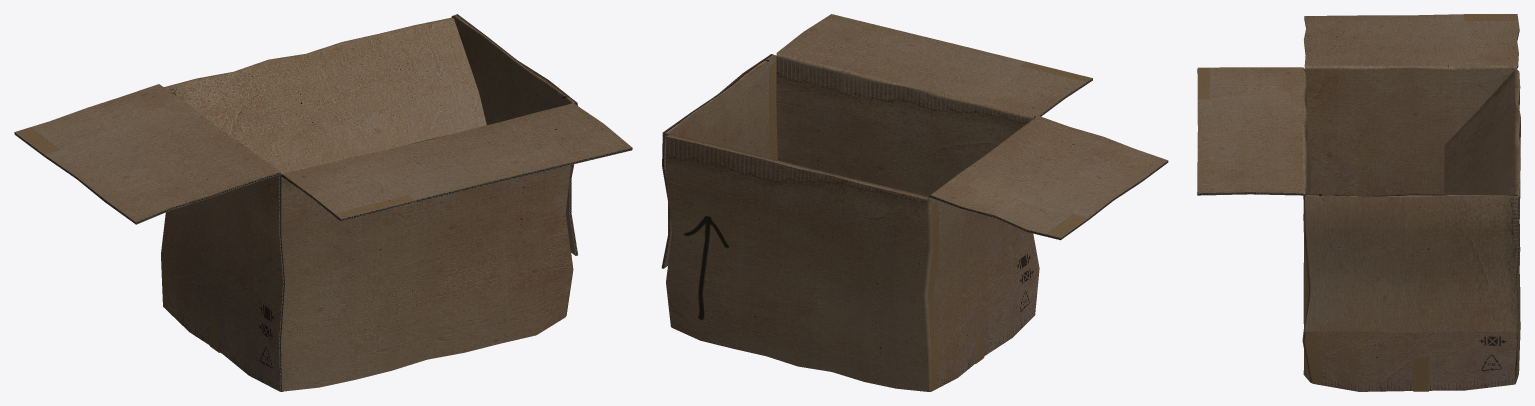
File: SM_CardboardC.FBX
3 renders of one model, left to right at view 1: azimuth 30°, elevation 25°; view 2: azimuth 150°, elevation 25°; view 3: azimuth 270°, elevation 25°, orthographic. The views are drawn at different scales.
Visible parts, largest first — view 1: SM_CardboardC_LOD0; view 2: SM_CardboardC_LOD0; view 3: SM_CardboardC_LOD0.
Part boxes in pixels (box(x1,y1,x2,y2)): SM_CardboardC_LOD0: box(14, 14, 632, 391); SM_CardboardC_LOD0: box(661, 14, 1168, 391); SM_CardboardC_LOD0: box(1197, 14, 1520, 391).
Size of what is drawn, in the model's own units: 107 by 52.71 by 75.89.
